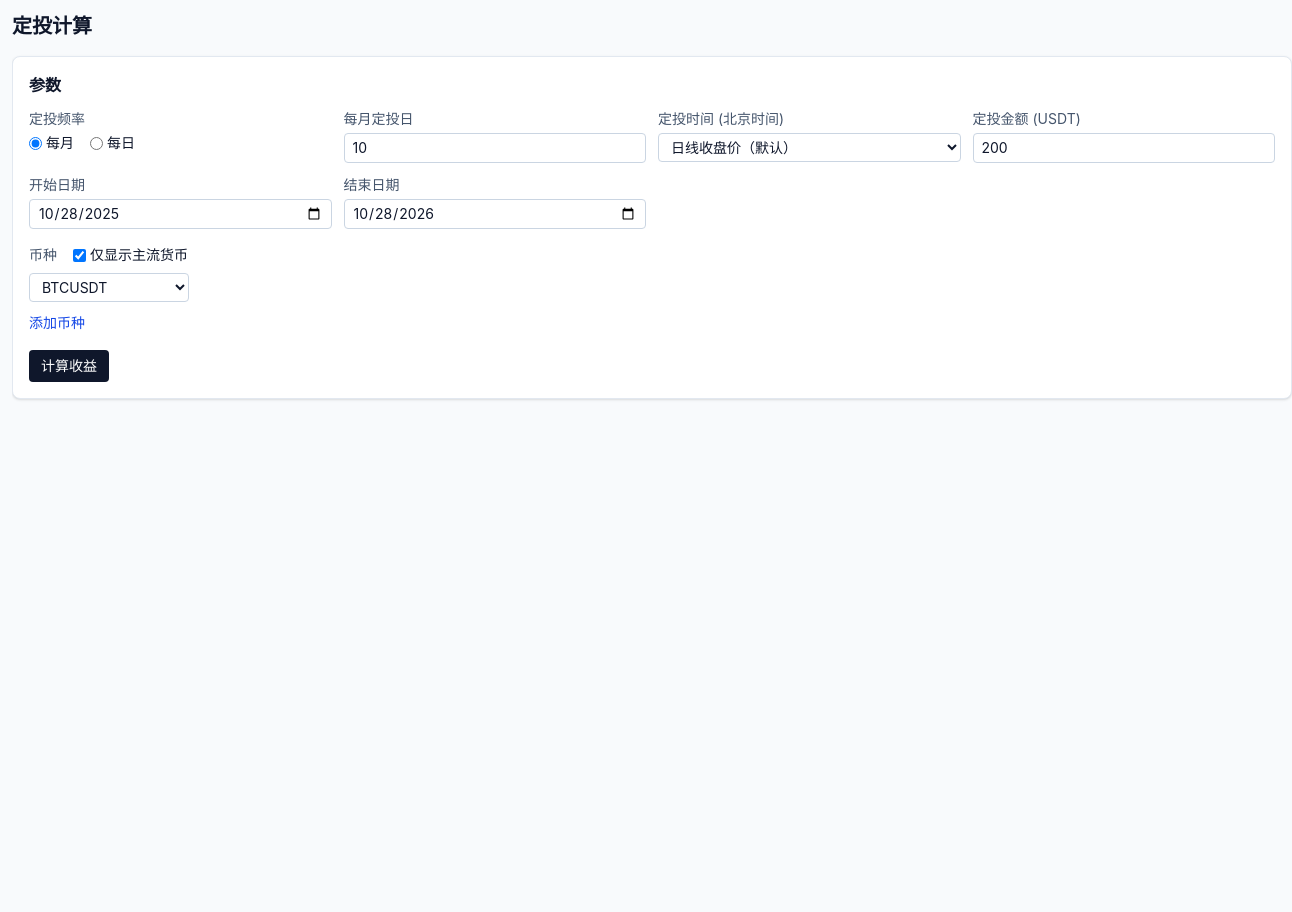
DcaPage › shows the invest time in the summary
This screenshot has width=1292, height=912.
Click the button "计算收益" at (69, 366), box [29, 350, 109, 382]
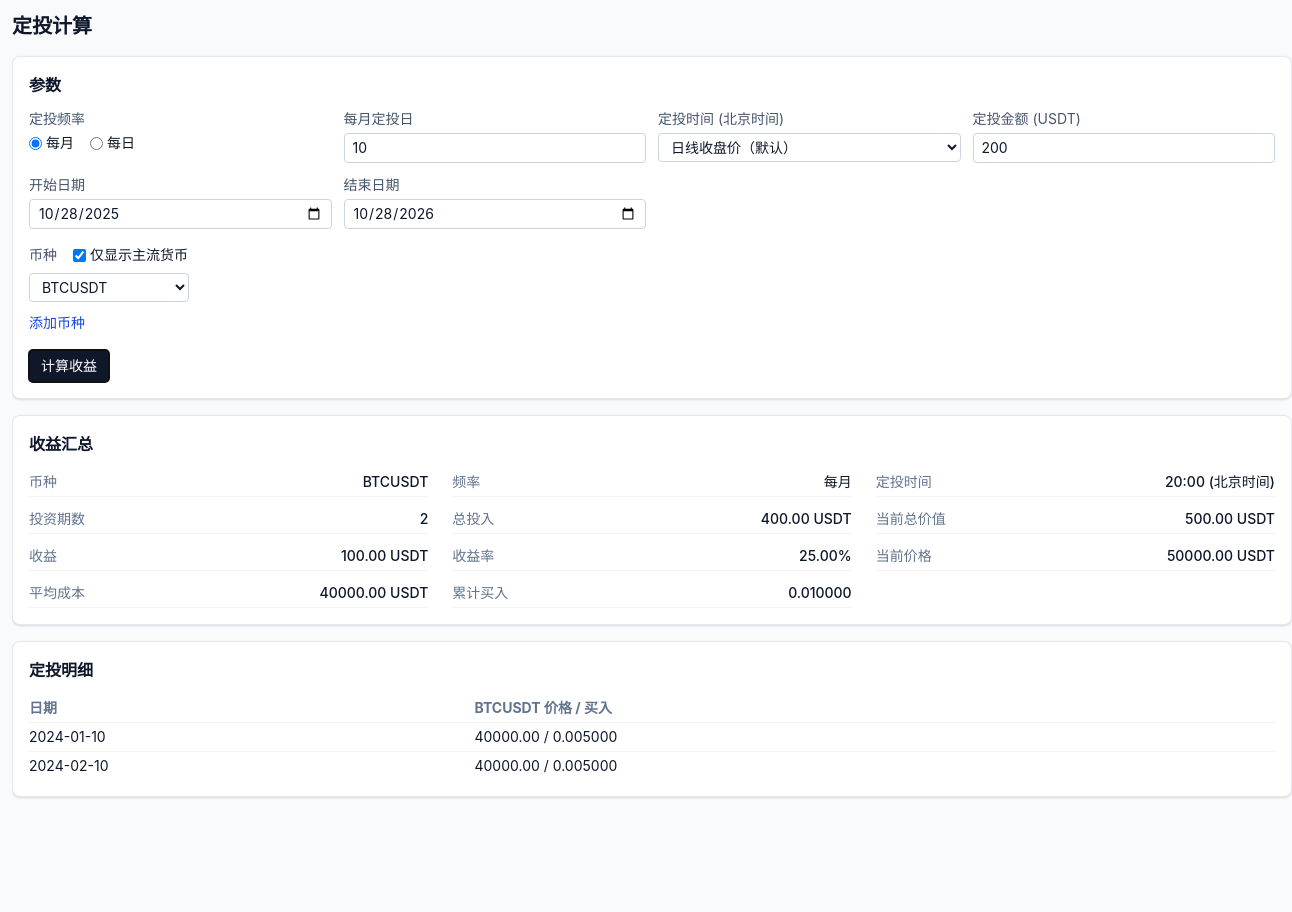
expect the text "20:00 (北京时间)" is shown: met, box [1165, 472, 1275, 492]
